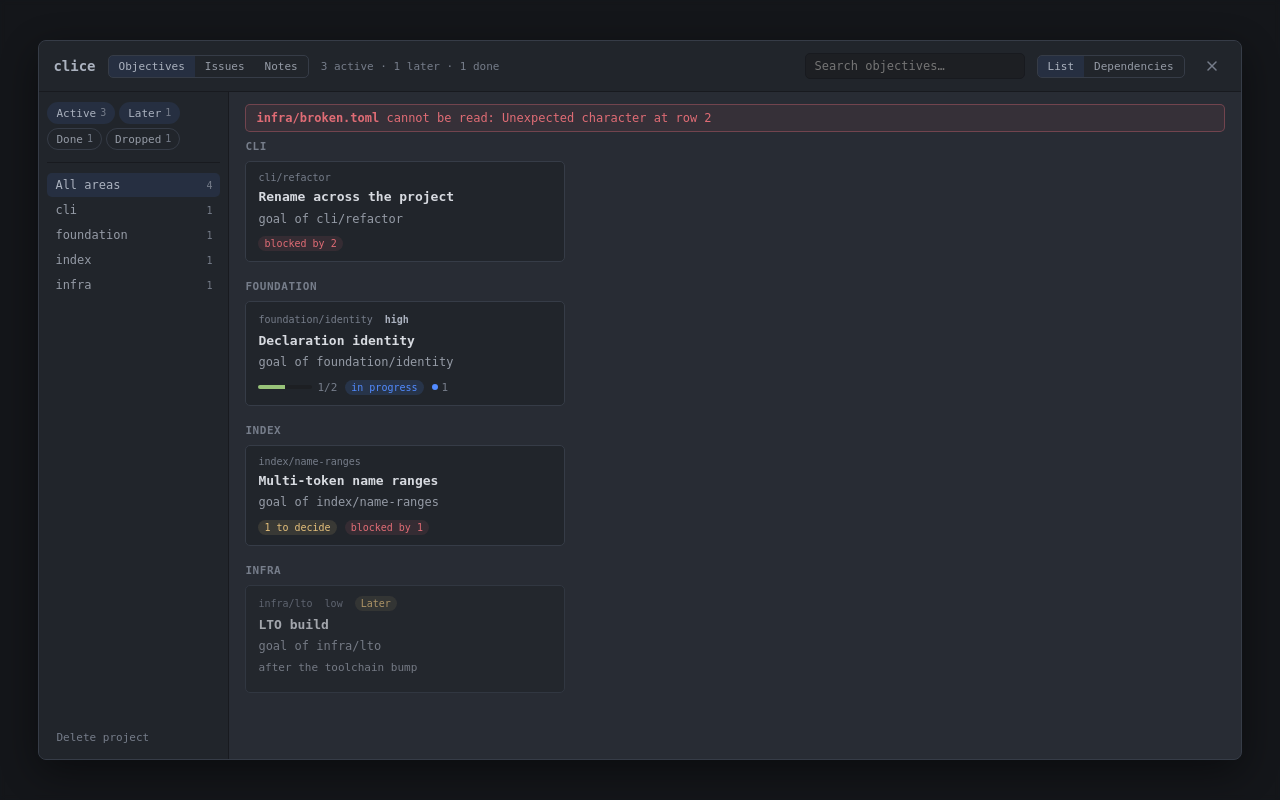
BoardPage › filters by area, status and search
Step 1. Click the button "infra 1" → [134, 285], box [47, 273, 220, 297]
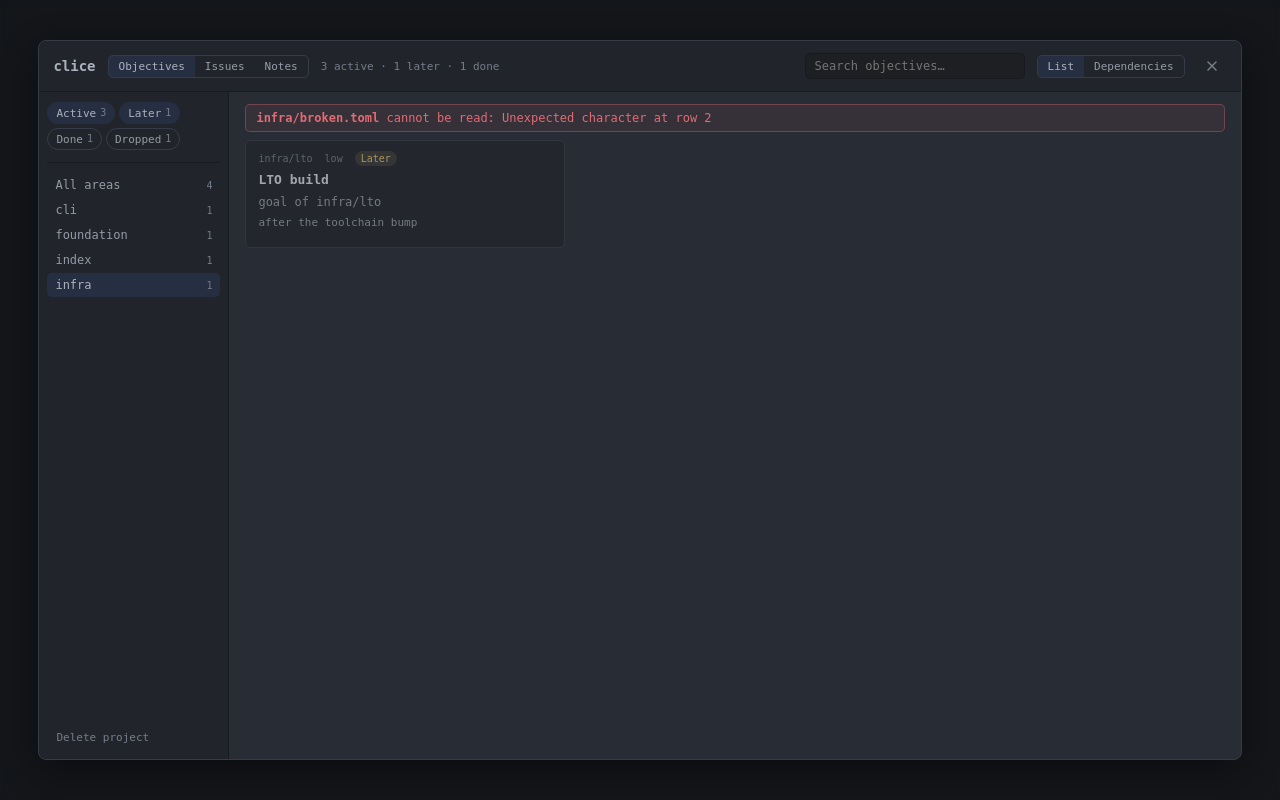
Step 2. Click the button "Dropped 1" → [143, 139], box [106, 128, 180, 150]
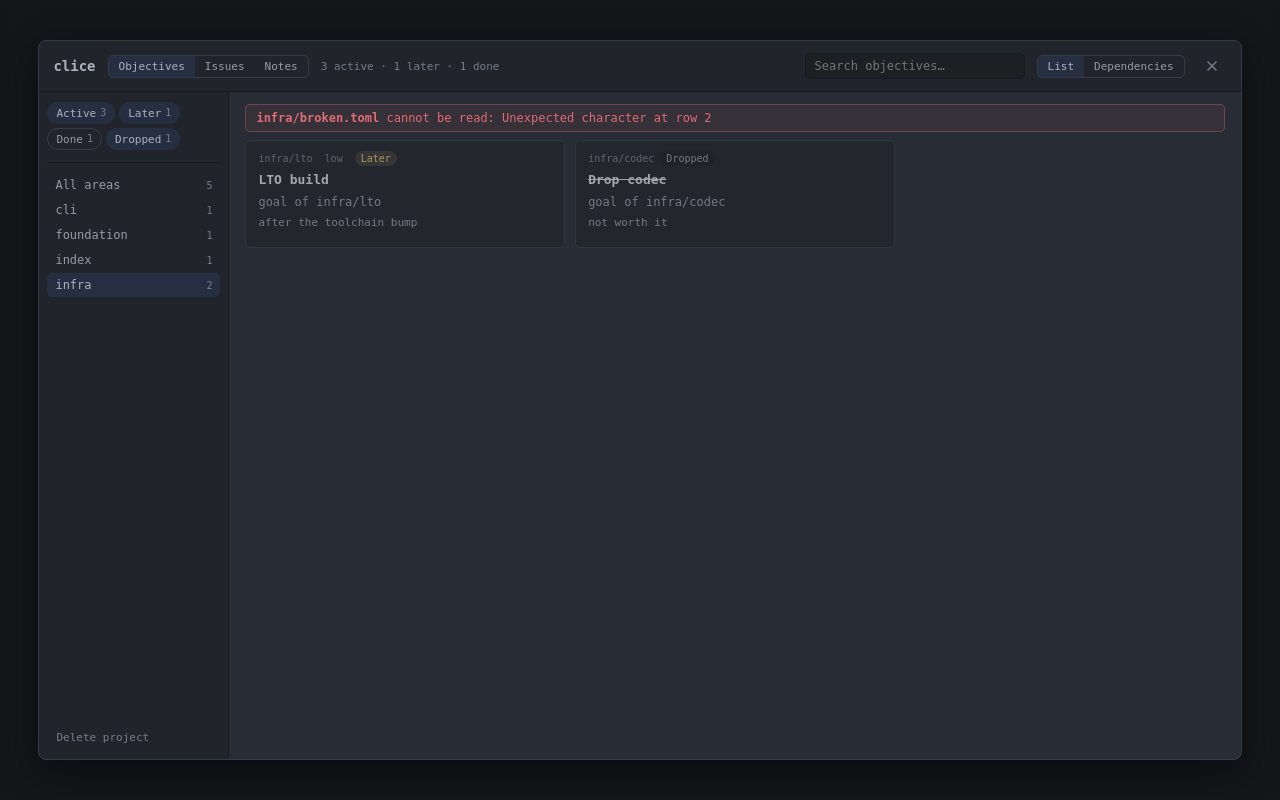
Step 3. Click the button "All areas 5" → [134, 185], box [47, 173, 220, 197]
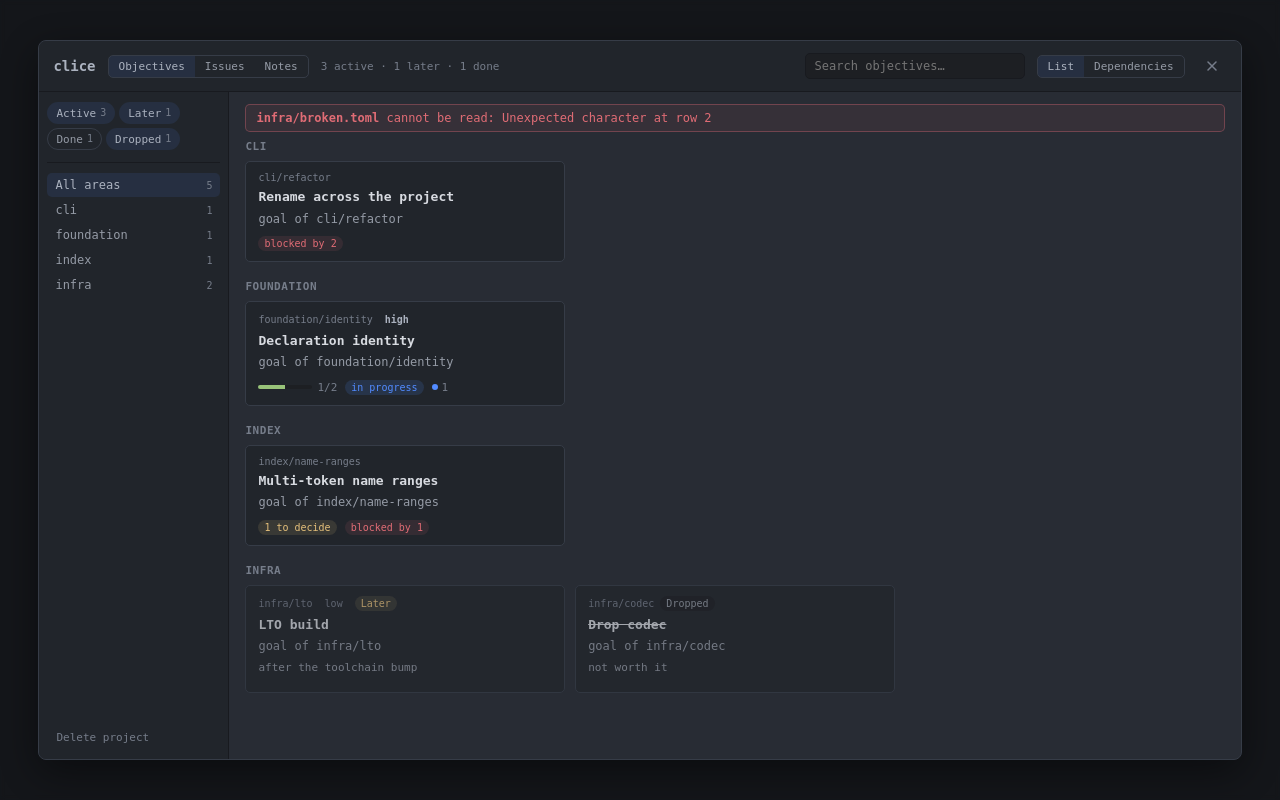
Step 4. Type "closure" into the search field with placeholder "Search objectives…" → [915, 66], box [805, 53, 1025, 79]
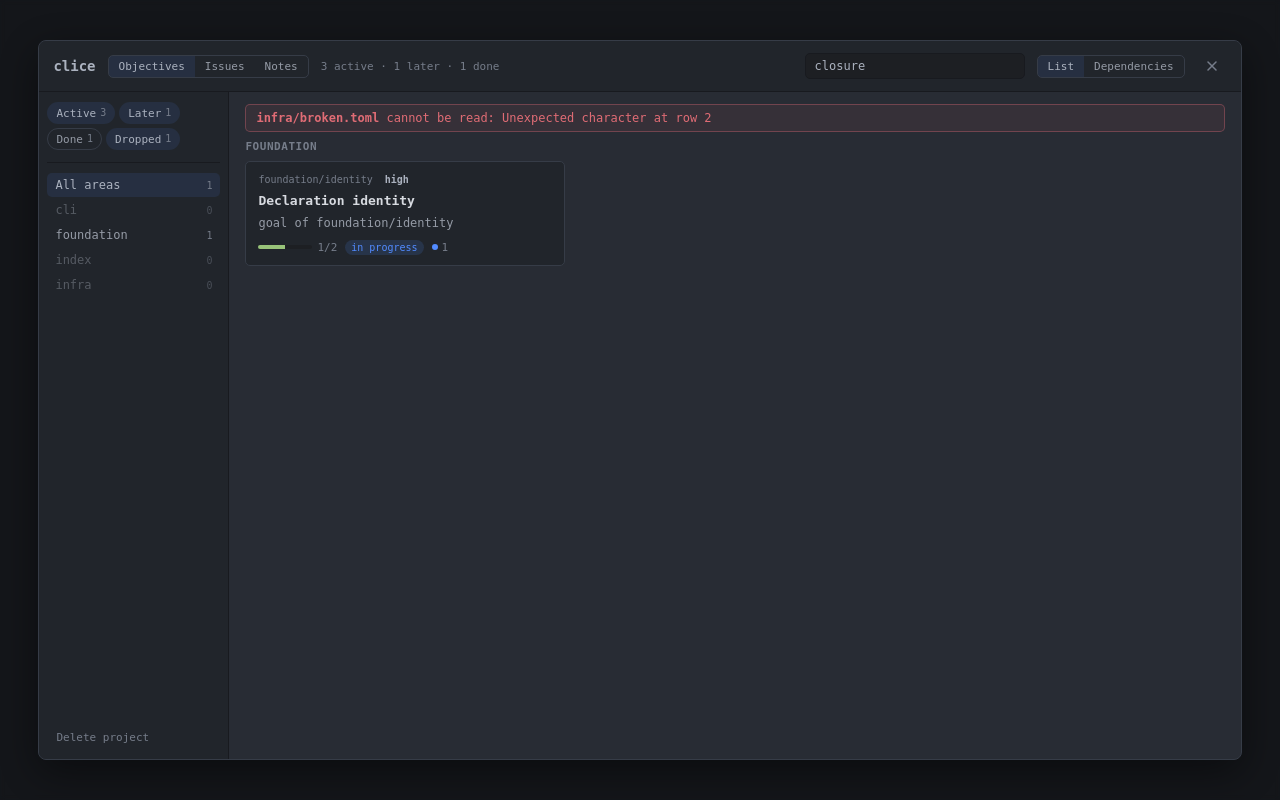
Step 5. Replace the text in the search field with placeholder "Search objectives…" with "zzz" → [915, 66], box [805, 53, 1025, 79]
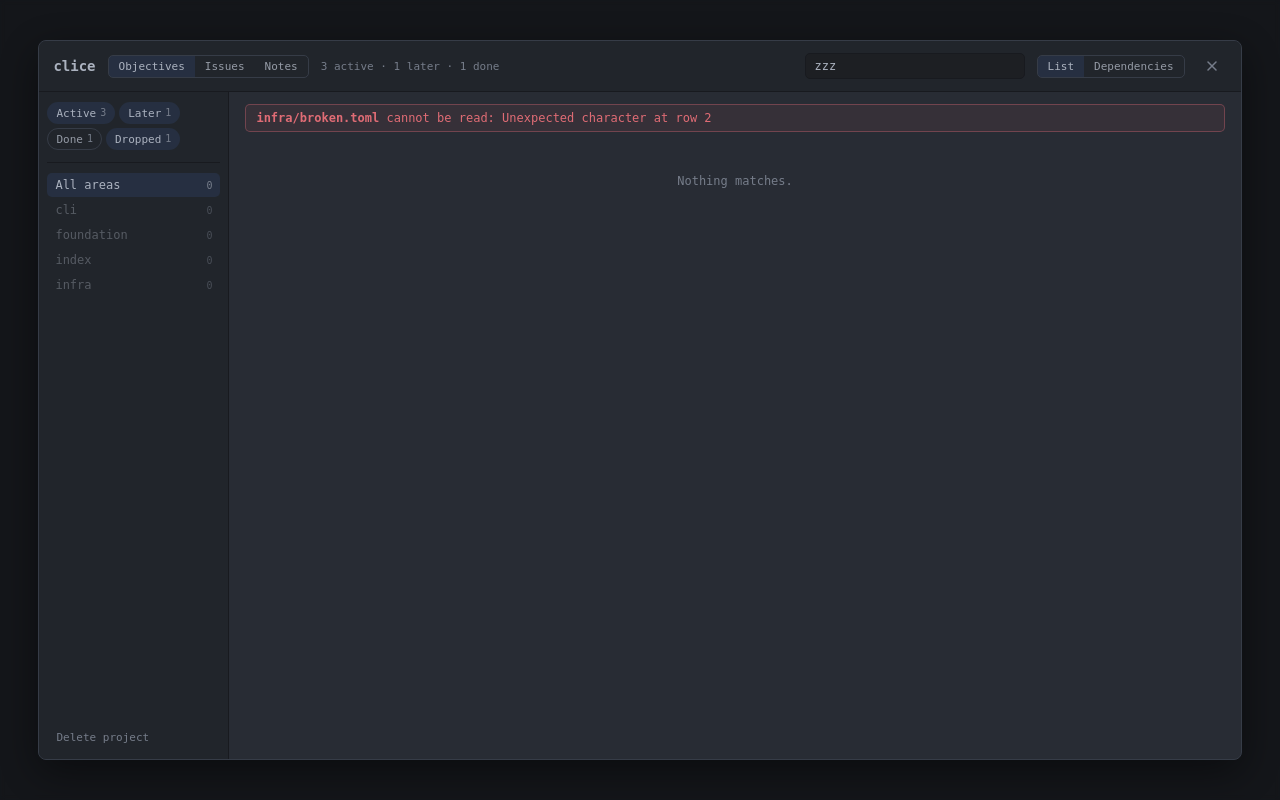
Check: the text with class "bp-empty" reads "Nothing matches.", box [677, 174, 793, 188]
